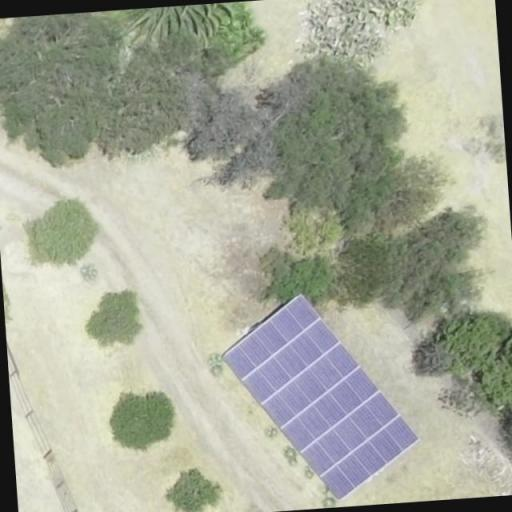solar-panel: (219, 293, 419, 502)
